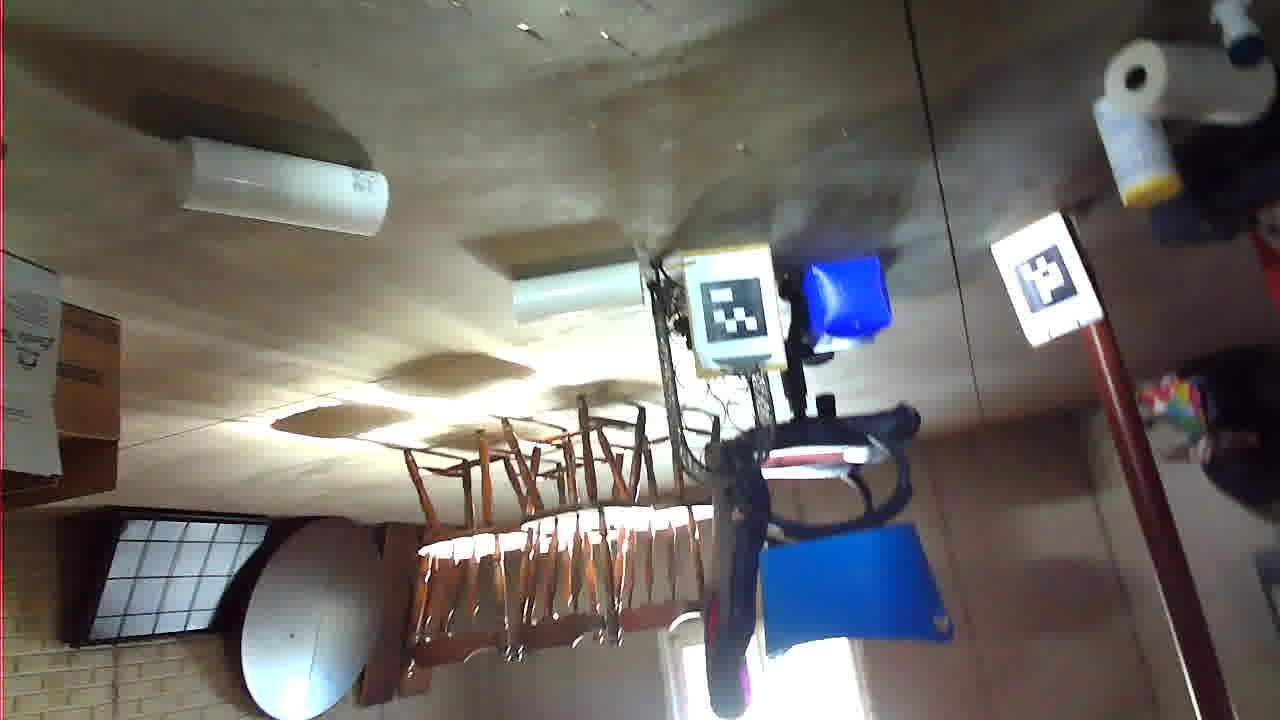coral: (893, 487, 1105, 585), (630, 401, 771, 457)
